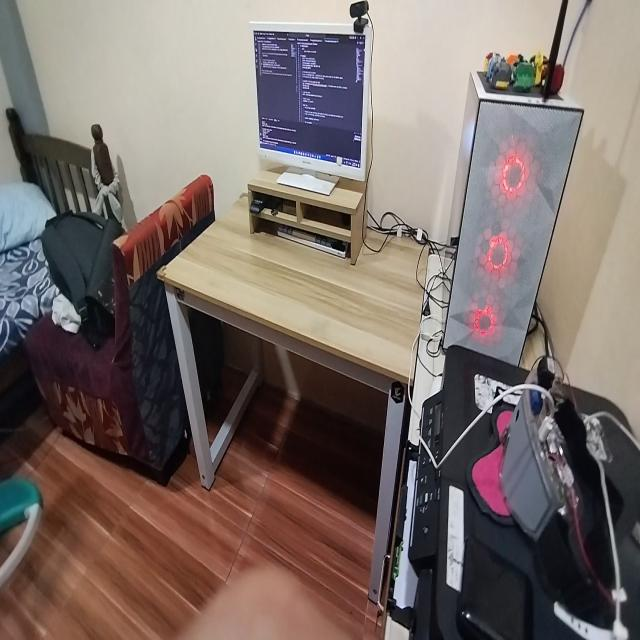table: (170, 182, 432, 550)
